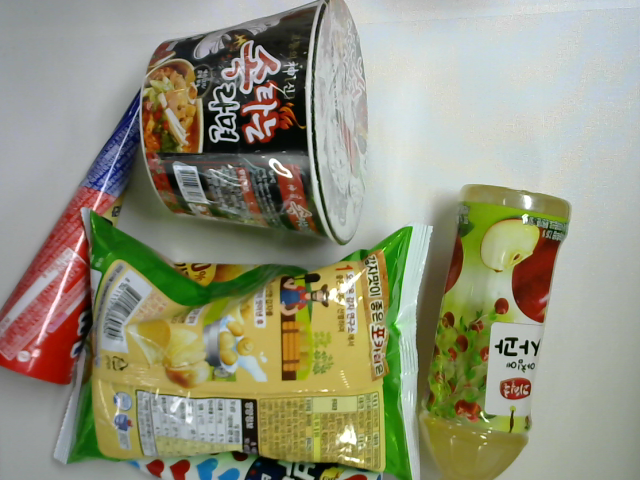Bravo_Cone_(Banila)_CVS: (112, 452, 385, 479)
HeJangsock: (138, 1, 374, 248)
Morning_Apple_500ml: (417, 184, 573, 480)
Pocachip_Onion: (41, 207, 441, 480)
World_Cone_Banila: (1, 88, 144, 385)
